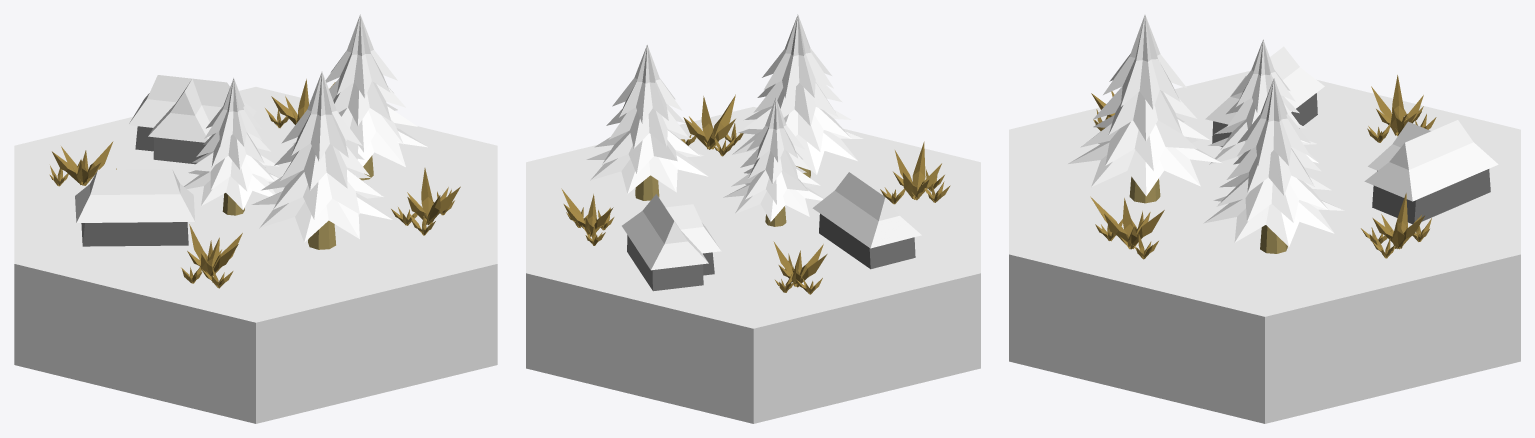
Rendered from Casas_Pinos_Altos_Nieve_2.fbx.
3 renders of one model, left to right at view 1: azimuth 30°, elevation 25°; view 2: azimuth 150°, elevation 25°; view 3: azimuth 270°, elevation 25°, orthographic. The views are drawn at different scales.
Visible parts, largest first — view 1: Casas_Pinos_Altos_Nieve_2; view 2: Casas_Pinos_Altos_Nieve_2; view 3: Casas_Pinos_Altos_Nieve_2.
Part boxes in pixels (x1,y1,x2,y2): Casas_Pinos_Altos_Nieve_2: (14, 14, 497, 423); Casas_Pinos_Altos_Nieve_2: (526, 14, 980, 423); Casas_Pinos_Altos_Nieve_2: (1009, 14, 1520, 423).
Size of the model in its own units: 200 by 108 by 173.
